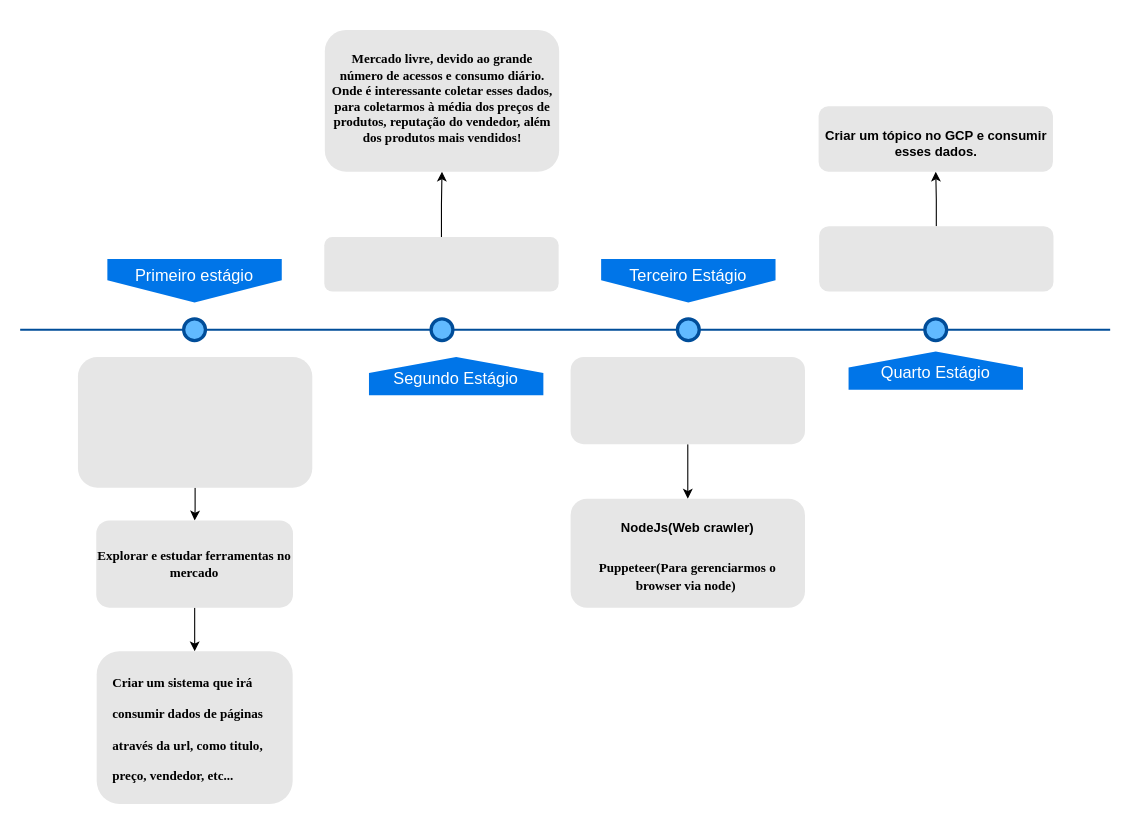
This 1129x822 diagram has some shape labels left out. Each missing label, with the centre of its shape:
"Como você deixará esse serviço online?" goes at (936,258).
"Entender o que foi proposto e ter a ideia bem definida no que você irá atuar." goes at (194,421).
"Qual linguagem e ferramentas você utilizará?" goes at (687,400).
"Qual site você irá consumir os dados?" goes at (441,264).
